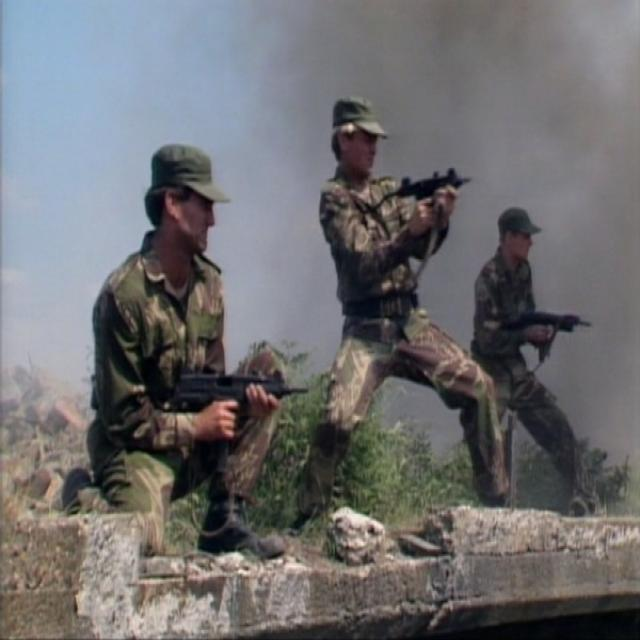rifle: (166, 368, 313, 418), (389, 168, 477, 207)
